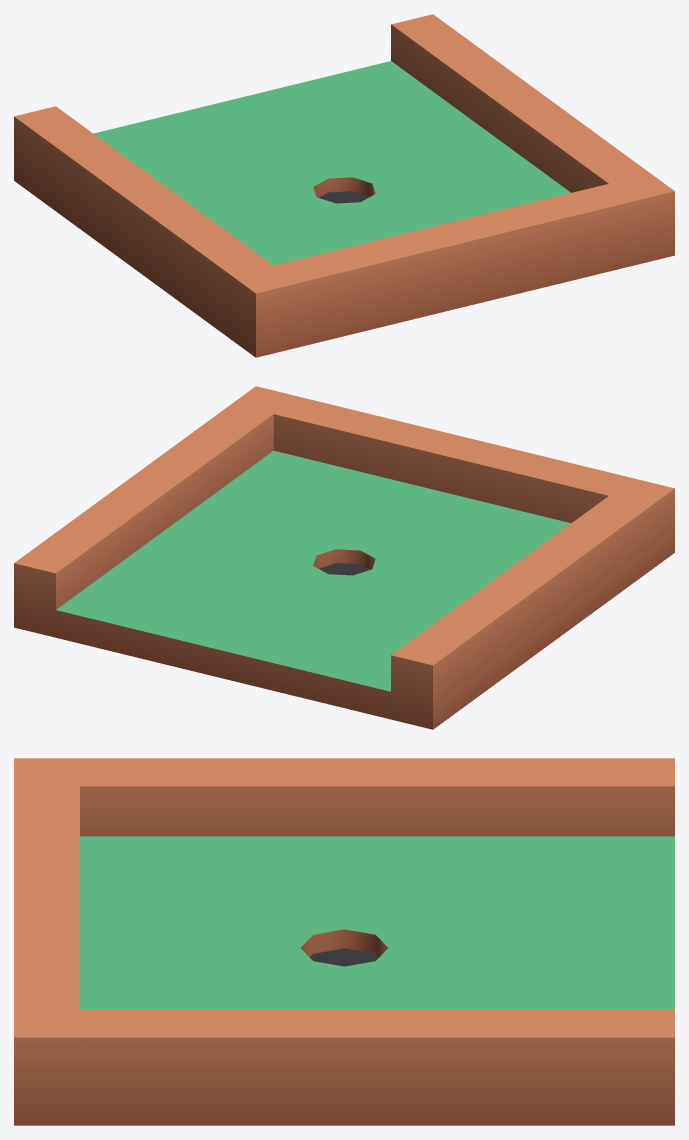
Rendered from hole-square.glb.
The picture shows the model from 3 angles, top to bottom: view 1: azimuth 30°, elevation 25°; view 2: azimuth 150°, elevation 25°; view 3: azimuth 270°, elevation 25°; orthographic projection. The views are drawn at different scales.
Visible parts, largest first — view 1: hole-square; view 2: hole-square; view 3: hole-square.
Boxes of the visible parts, x1=… form: hole-square: x1=14, y1=14, x2=674, y2=357; hole-square: x1=14, y1=386, x2=674, y2=729; hole-square: x1=14, y1=758, x2=674, y2=1125.
Size of the model in its own units: 0.9999 by 0.1466 by 0.9999.
1 material, 1 textured.
